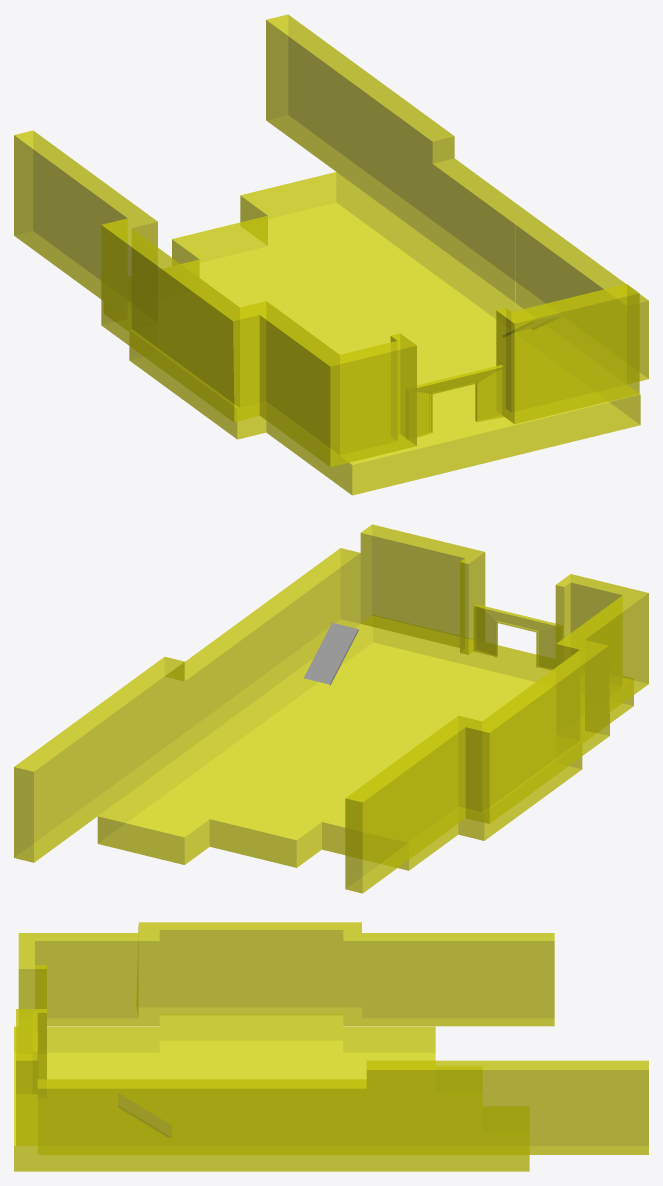
File: ColliderFoor1Grp.fbx
3 renders of one model, top to bottom at view 1: azimuth 30°, elevation 25°; view 2: azimuth 150°, elevation 25°; view 3: azimuth 270°, elevation 25°, orthographic. The views are drawn at different scales.
Parts seen in each view (by area): view 1: Floor1, WallL, WallR, Entrance1; view 2: Floor1, WallL, WallR, Entrance1, pCube3; view 3: Floor1, WallL, WallR, pCube3.
Part boxes in pixels (x1,y1,x2,y2): Floor1: [104, 172, 640, 495]; WallL: [266, 14, 648, 424]; WallR: [14, 130, 416, 466]; Entrance1: [406, 364, 504, 439]; Floor1: [97, 615, 633, 870]; WallL: [14, 524, 485, 862]; WallR: [345, 574, 648, 893]; Entrance1: [473, 604, 562, 670]; pCube3: [304, 622, 358, 685]; Floor1: [14, 1015, 529, 1171]; WallL: [16, 1009, 648, 1154]; WallR: [18, 922, 554, 1053]; pCube3: [118, 1094, 171, 1137].
Size of what is drawn, in the model's own units: 37.05 by 13.08 by 67.51.
